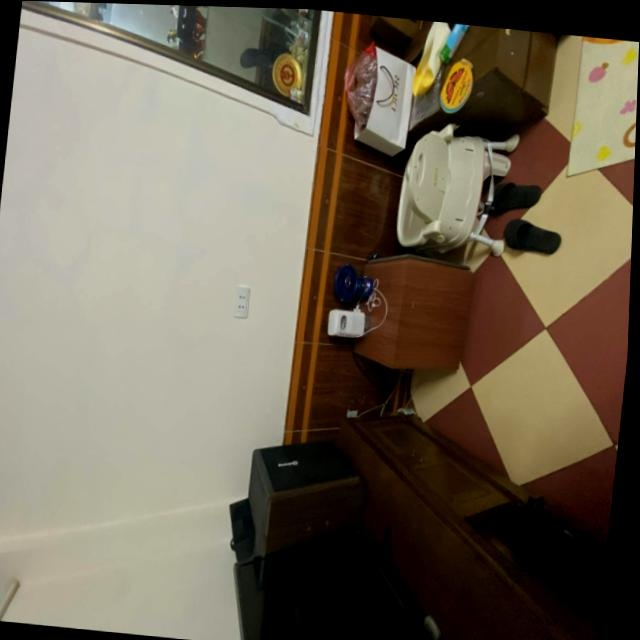outlet: (231, 284, 250, 318)
